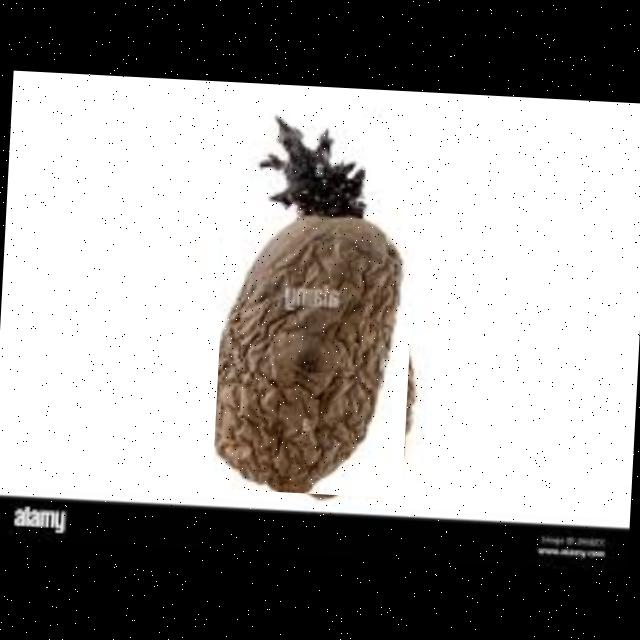Sprouted potato: (211, 110, 421, 498)
